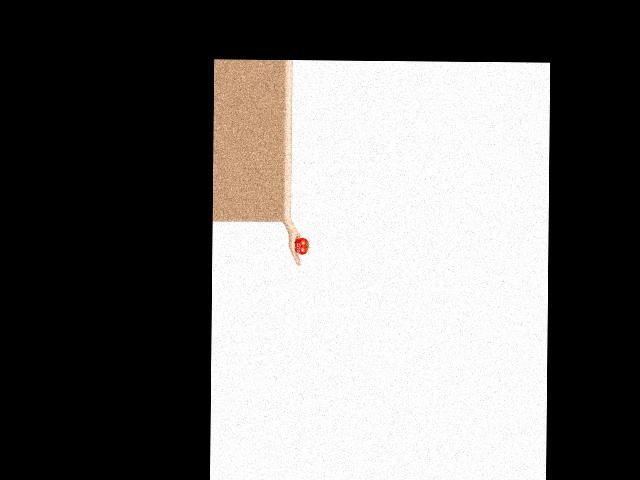tomato: (294, 237, 308, 254)
